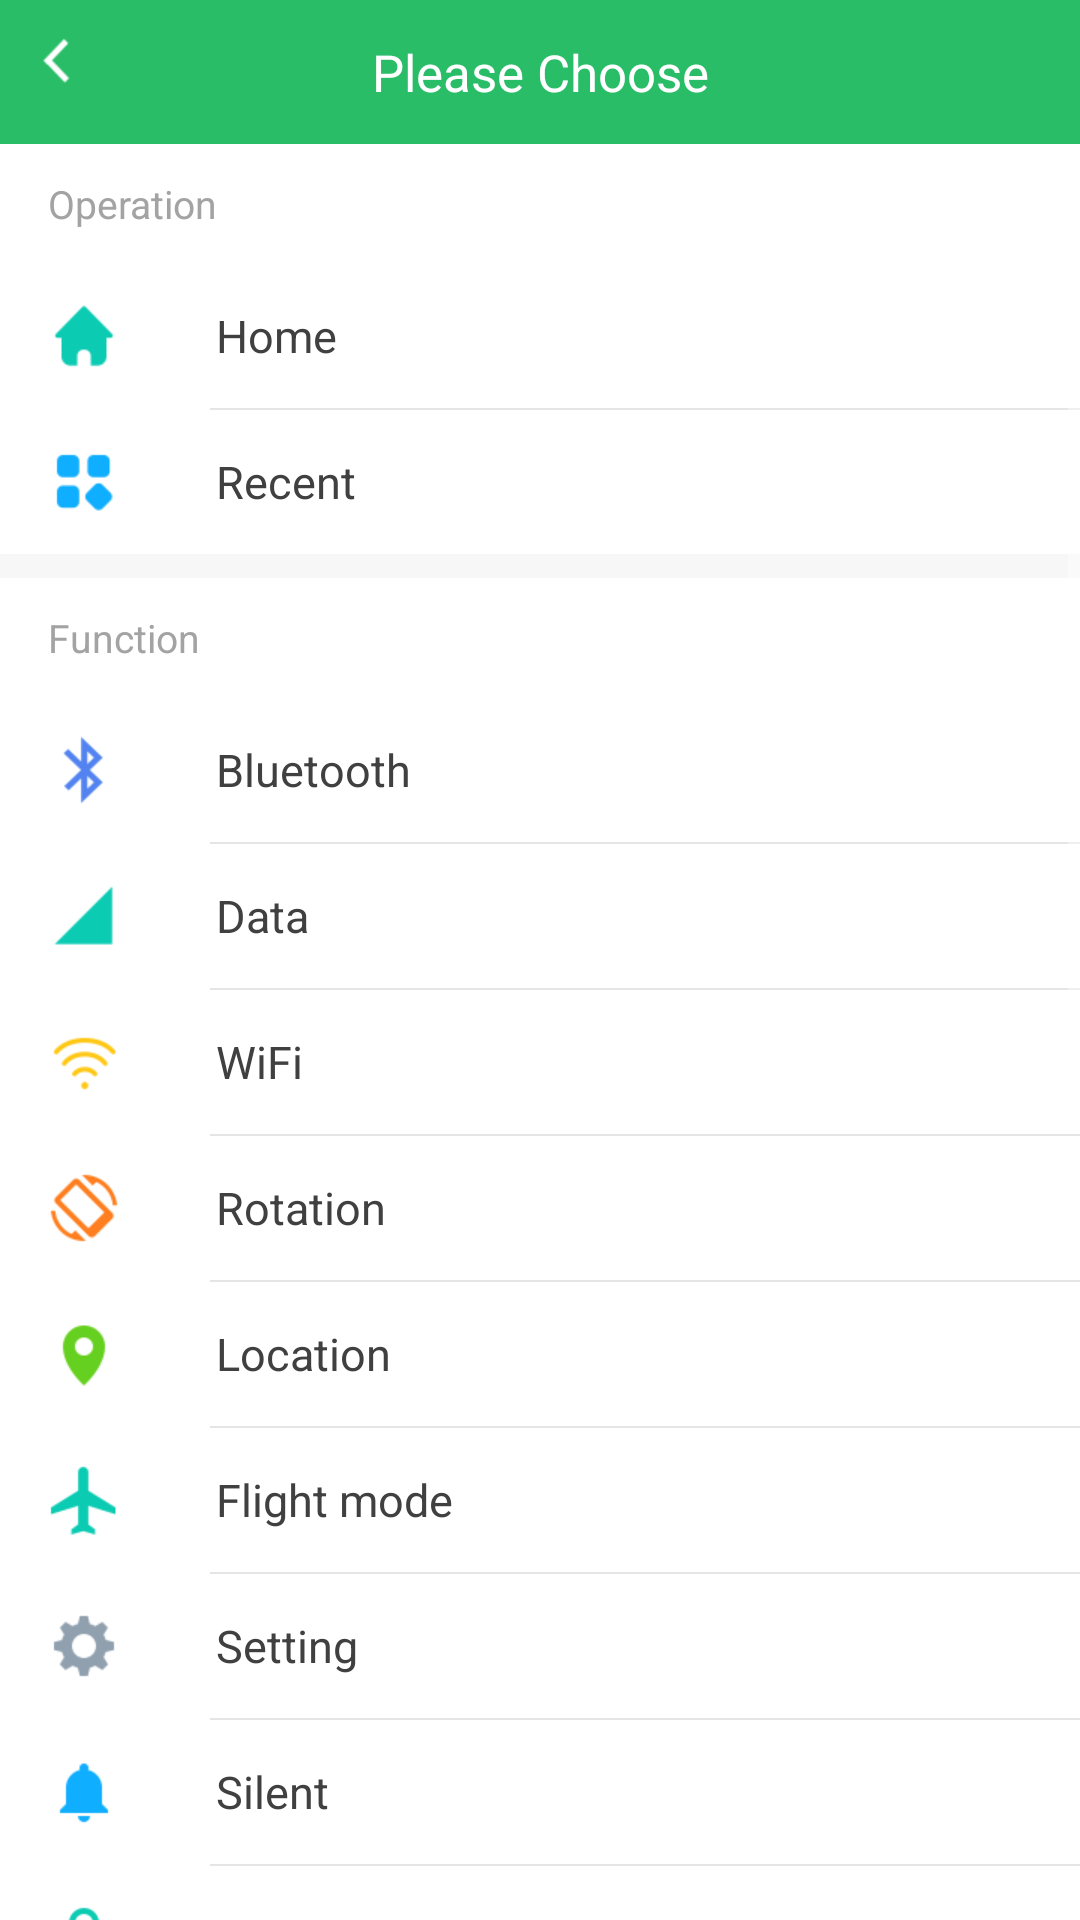

Locate icon controls on the screen. Image size 1080×1920, boxes as (x1, y1, x2, y2).
backto: (43, 39, 69, 83)
